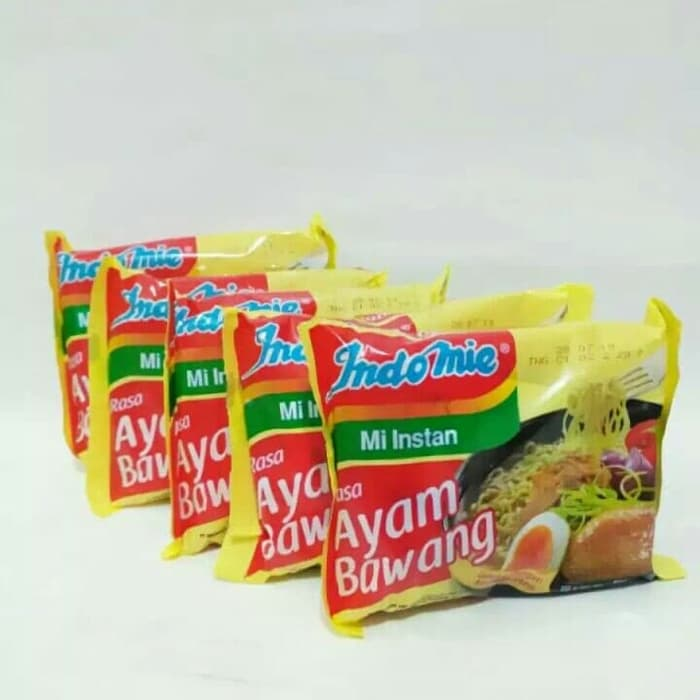indomie ayam bawang: (297, 310, 685, 616), (222, 298, 336, 605), (34, 206, 152, 477), (161, 281, 269, 571), (87, 241, 184, 530)
